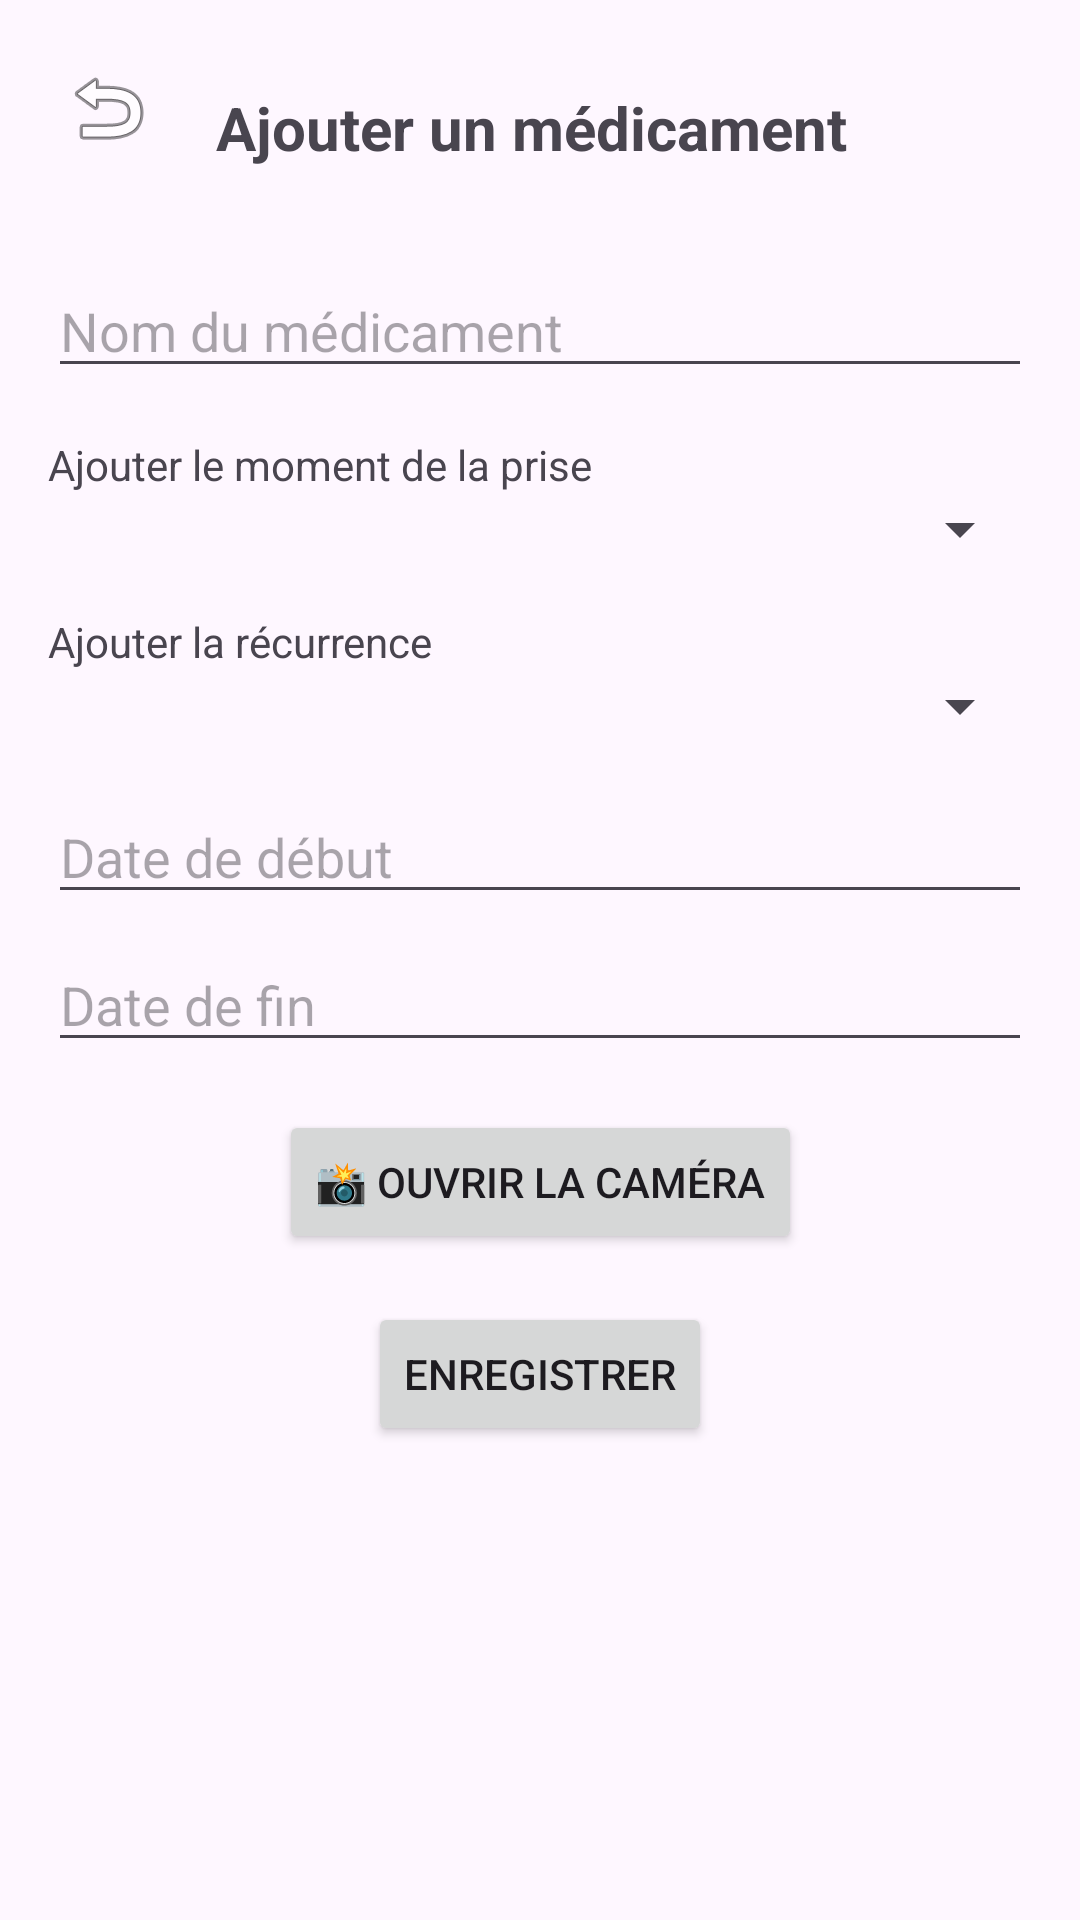

Icon bounding boxes for this 1080 × 1920 phone screenshot, format Rect(x1, y1, x2, y2):
Retour: Rect(75, 77, 144, 140)
